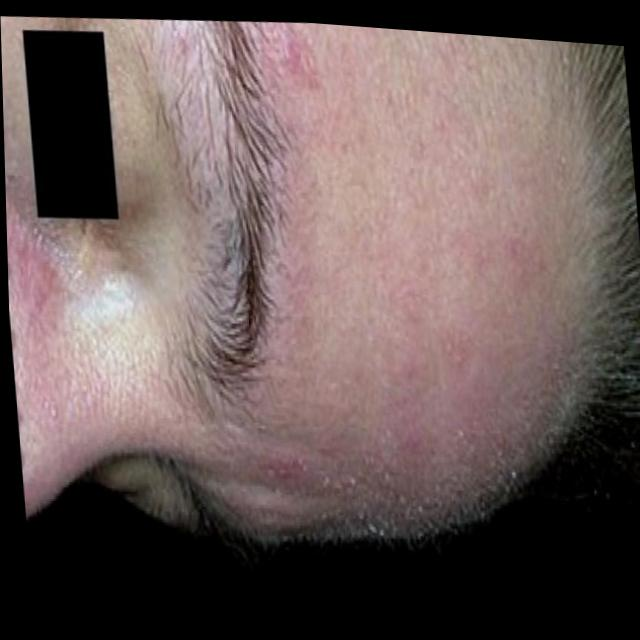Rosacea: (281, 317, 519, 539), (8, 264, 101, 373), (267, 26, 341, 122)
